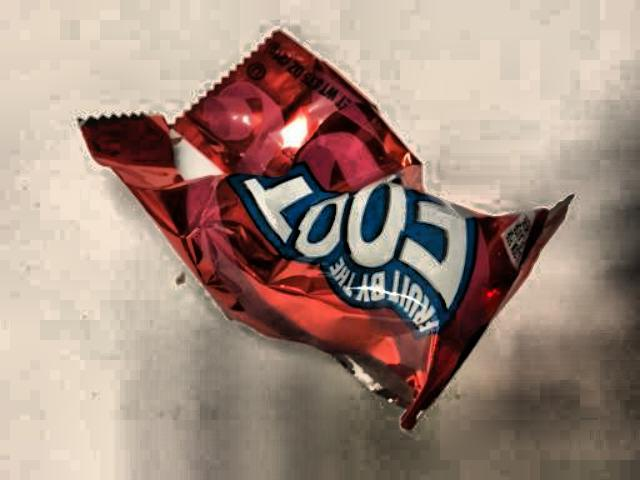Plastic: (52, 10, 558, 437)
